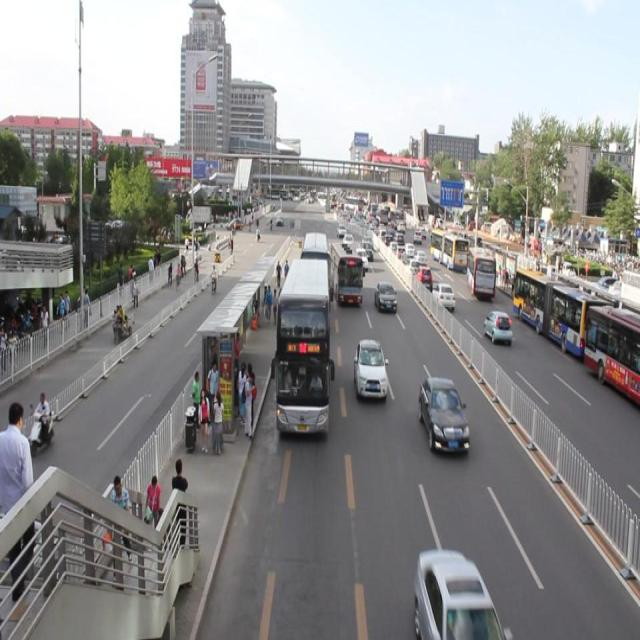car: (410, 548, 506, 640), (416, 374, 472, 459), (353, 336, 390, 399), (373, 278, 398, 316), (353, 244, 368, 274)
van: (271, 254, 336, 445), (299, 228, 332, 312), (326, 237, 365, 307)
